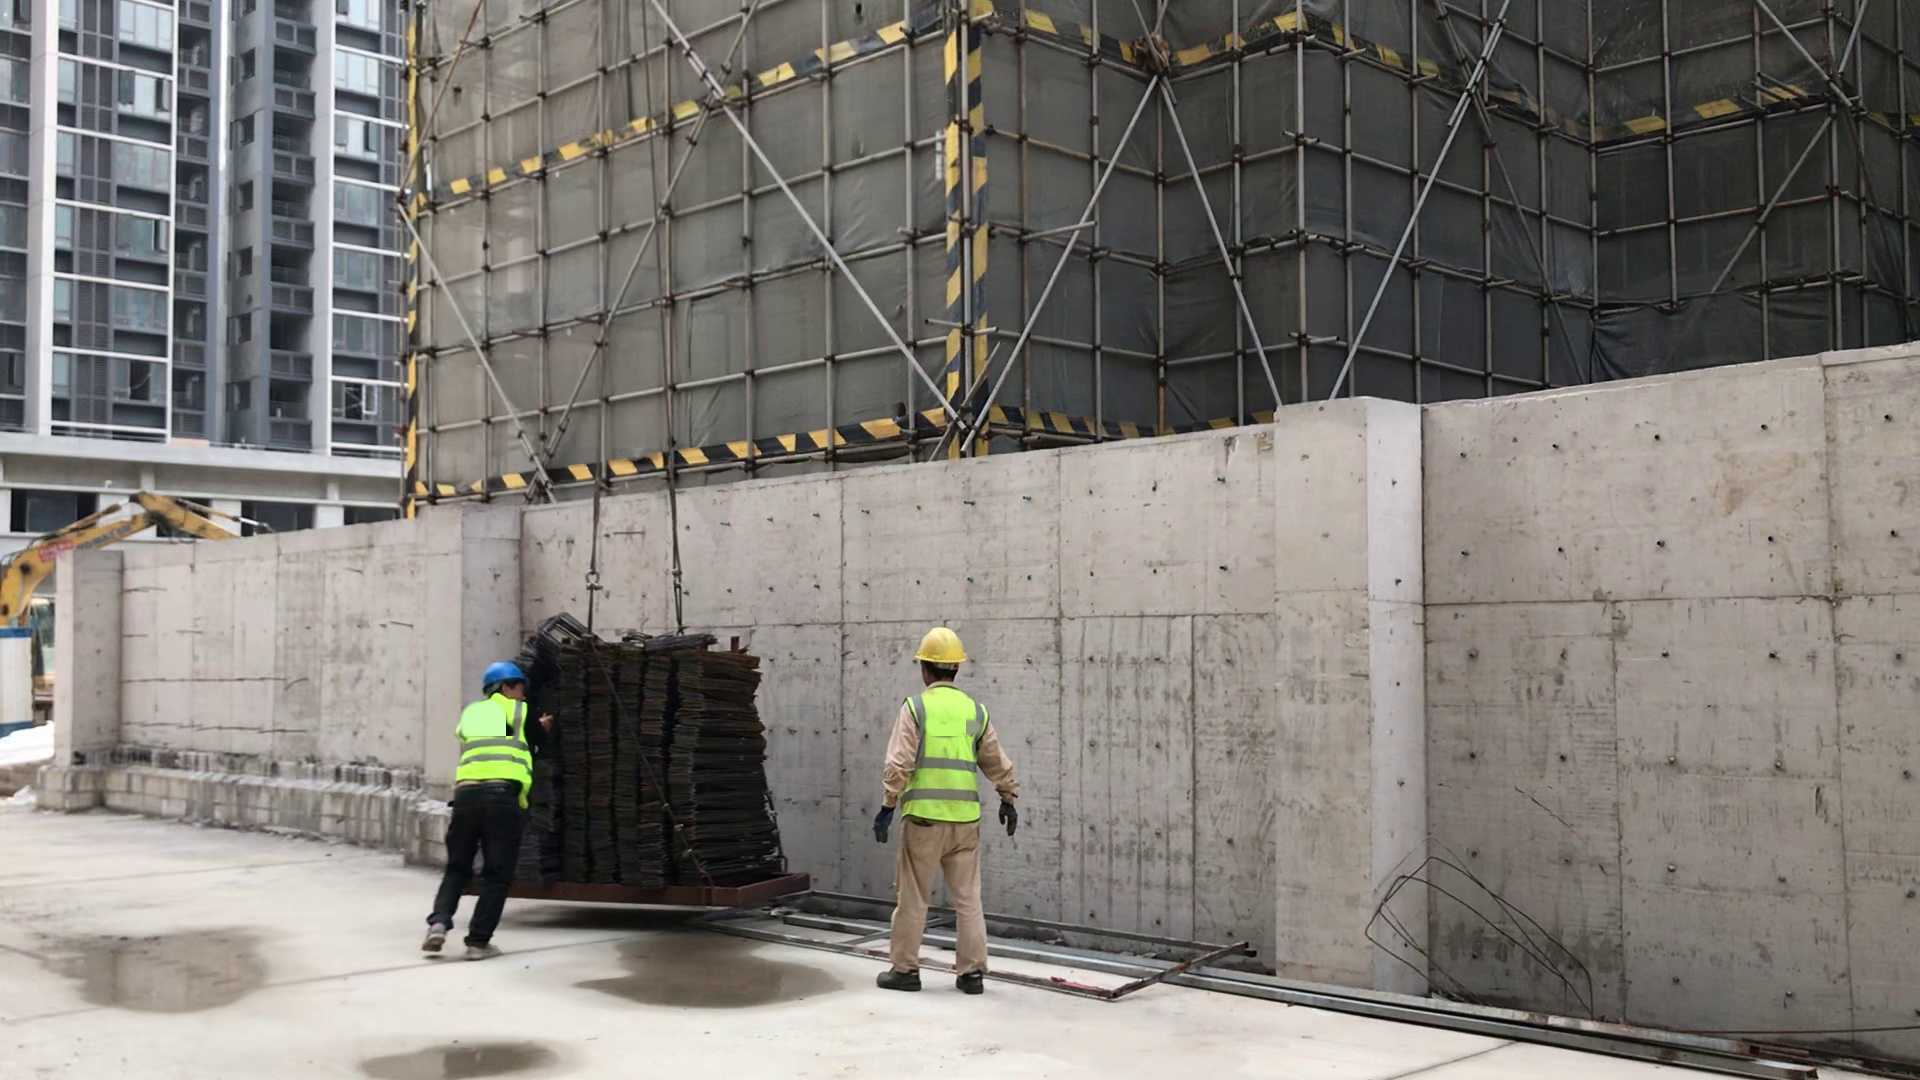helmet: (902, 614, 979, 679), (470, 653, 534, 691)
person: (878, 627, 1010, 991), (417, 655, 526, 956)
vest: (896, 698, 991, 819), (454, 695, 529, 790)
